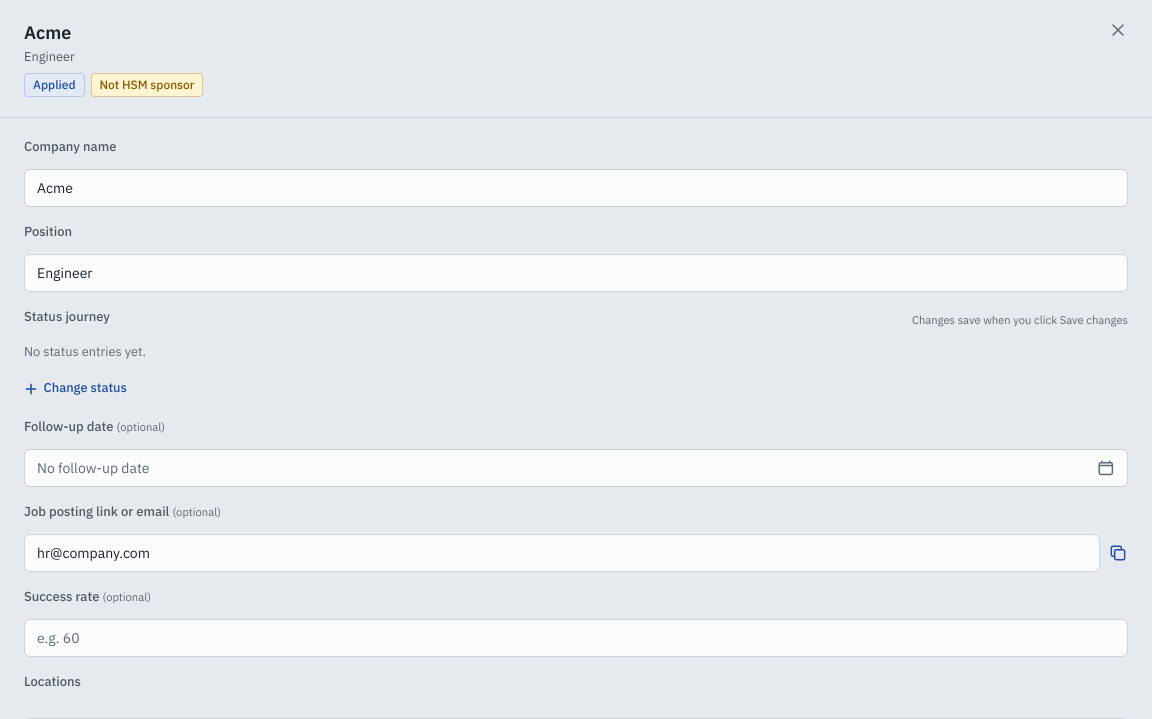
Test: ApplicationPanel – job posting link or email › shows a "Copied to clipboard" toast after copying
The width and height of the screenshot is (1152, 719).
Click the button with class "joburl-open-btn": (1118, 553) [1108,543,1128,563]
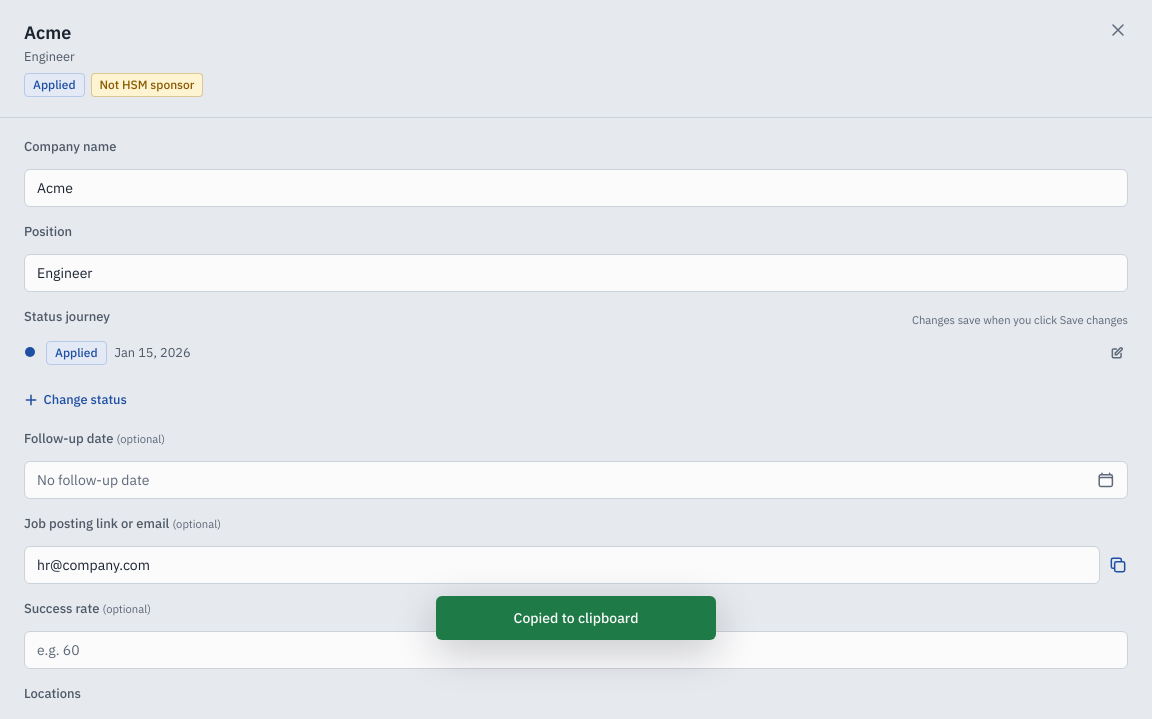
Check: the message "Copied to clipboard" is shown, box [436,596,716,640]
Check: the message with class "toast-success" reads "Copied to clipboard", box [514,609,638,627]
